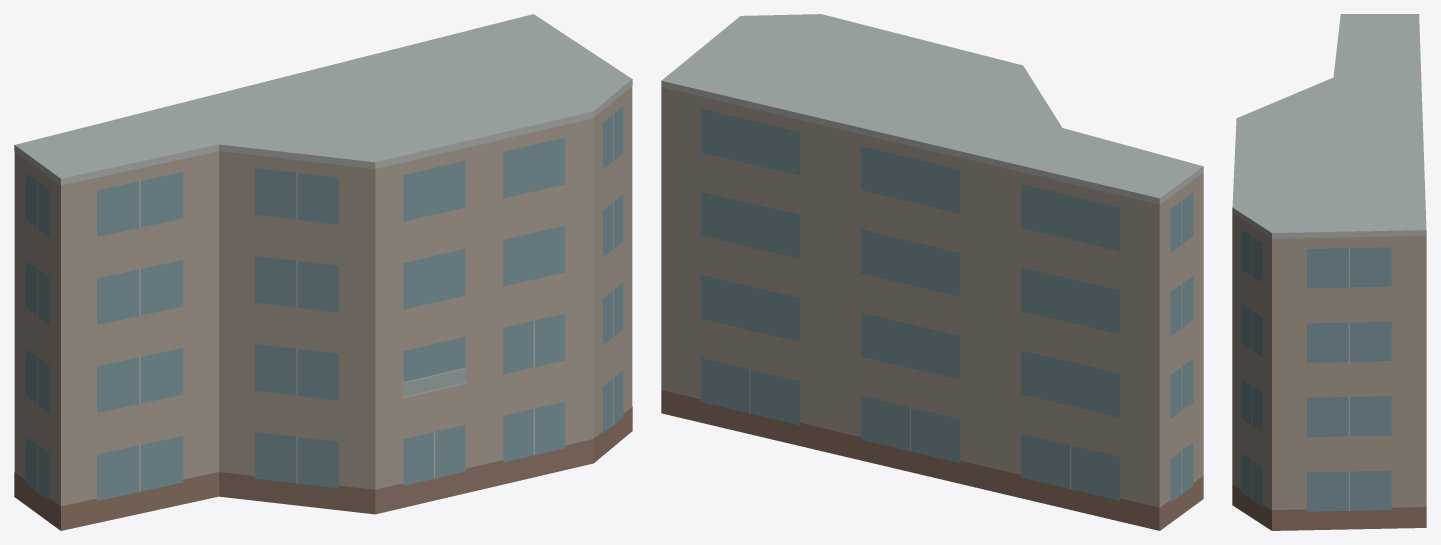
File: survey-upis-32828860.glb
3 renders of one model, left to right at view 1: azimuth 30°, elevation 25°; view 2: azimuth 150°, elevation 25°; view 3: azimuth 270°, elevation 25°, orthographic. The views are drawn at different scales.
Visible parts, largest first — view 1: survey-upis-32828860.tmp; view 2: survey-upis-32828860.tmp; view 3: survey-upis-32828860.tmp.
Boxes of the visible parts, x1=… form: survey-upis-32828860.tmp: x1=14, y1=14, x2=632, y2=530; survey-upis-32828860.tmp: x1=661, y1=14, x2=1203, y2=530; survey-upis-32828860.tmp: x1=1232, y1=14, x2=1426, y2=530.
Size of the model in its own units: 20.12 by 12.74 by 7.53.
